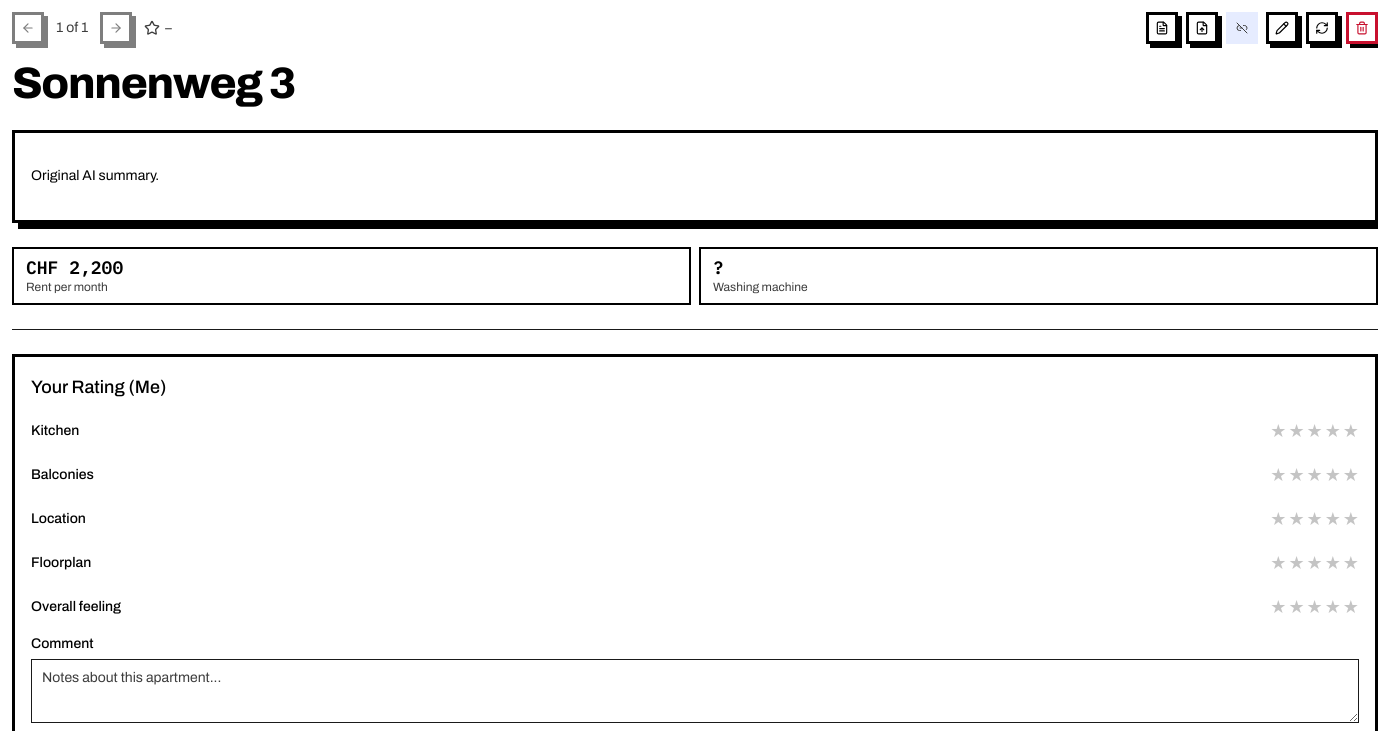
Scenario: Apartment detail — reprocess › surfaces a ParsePdfError message and leaves the apartment untouched
What coordinates should you click on to do the following:
click the button named "Reprocess"
I would click on:
 (1322, 28)
Its box is [1306,12,1338,44].
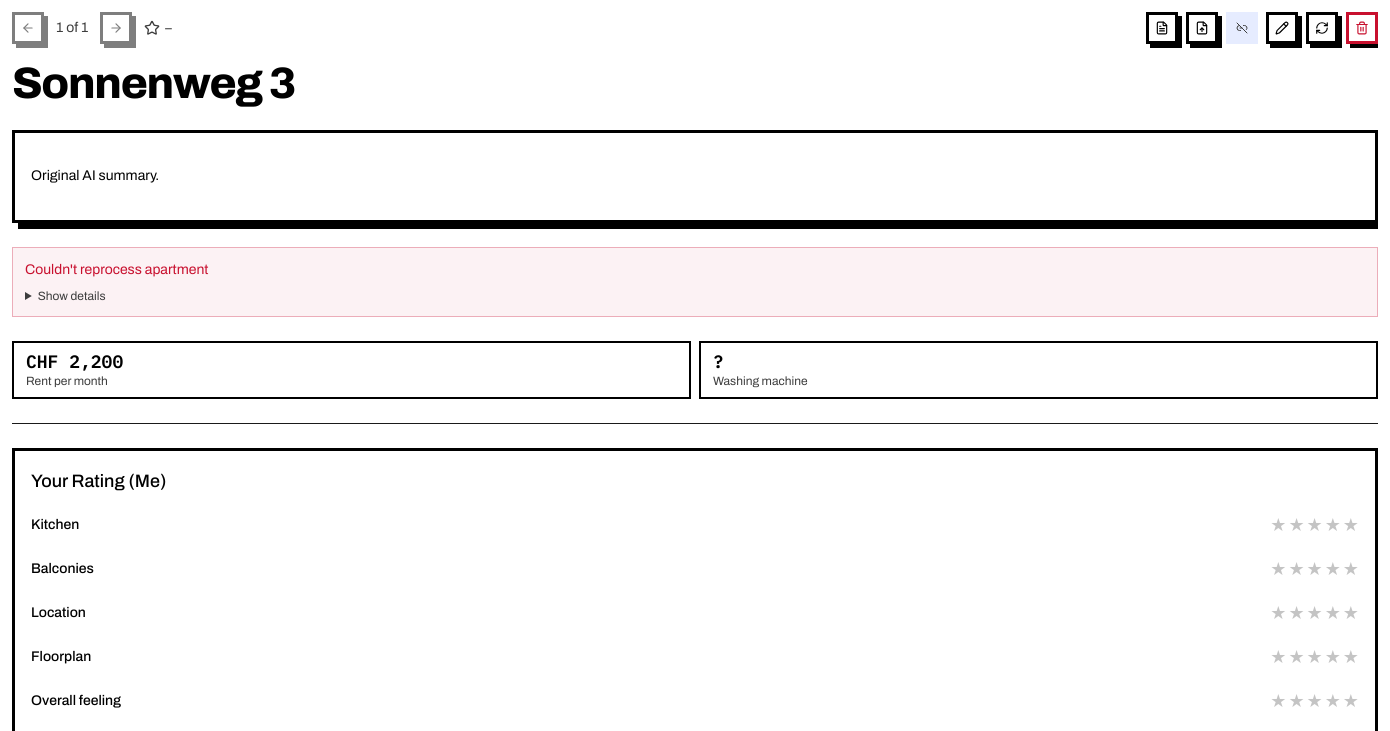
Result: the text "Couldn't reprocess apartment" is shown at [25,262,208,277]
